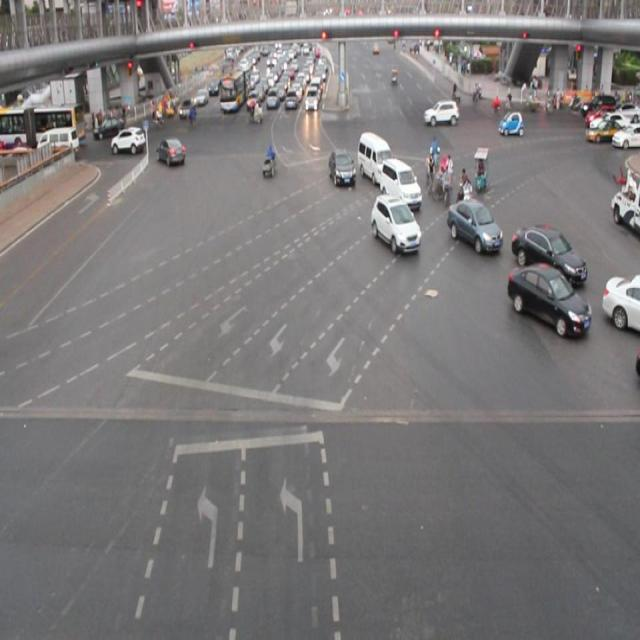car: (506, 264, 589, 336), (510, 223, 586, 284), (368, 192, 420, 252), (445, 197, 501, 252), (600, 270, 640, 332), (378, 156, 419, 208), (328, 146, 354, 190), (156, 136, 184, 167)
truck: (356, 132, 392, 184)
